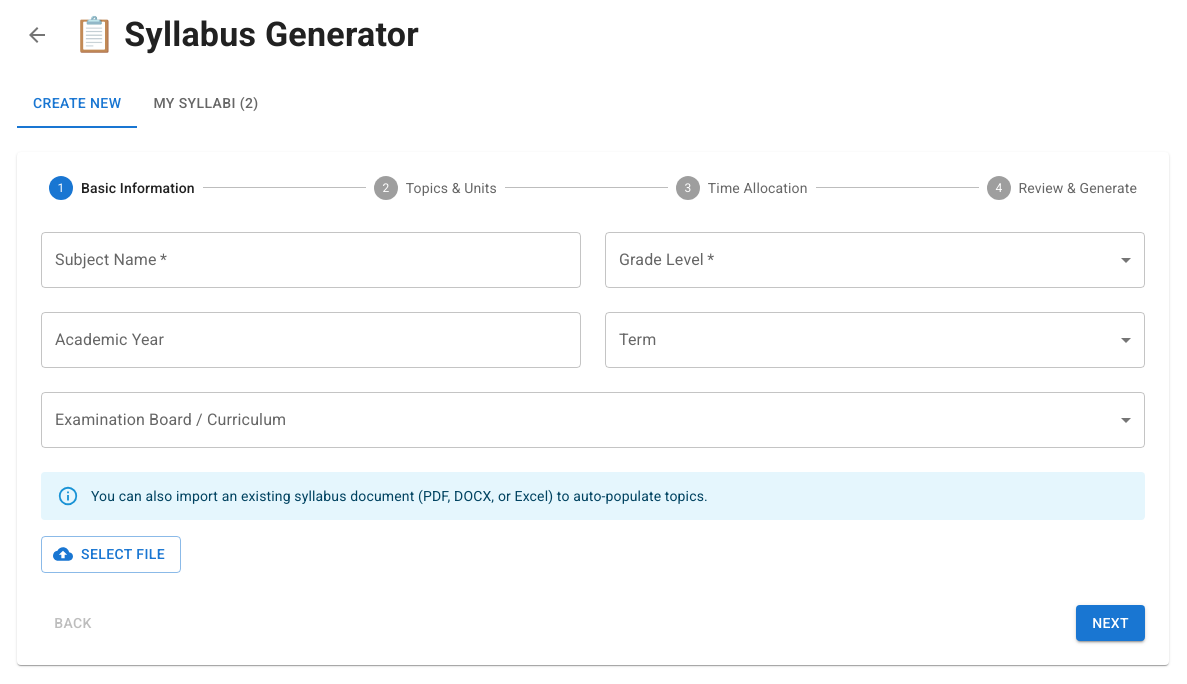
Test: SyllabusGenerator Component › shows Generate Syllabus button on final step
This screenshot has width=1187, height=684.
What coordinates should you click on to do the following:
click the button "Next"
I would click on:
 (1111, 623)
Its box is left=1076, top=604, right=1145, bottom=641.
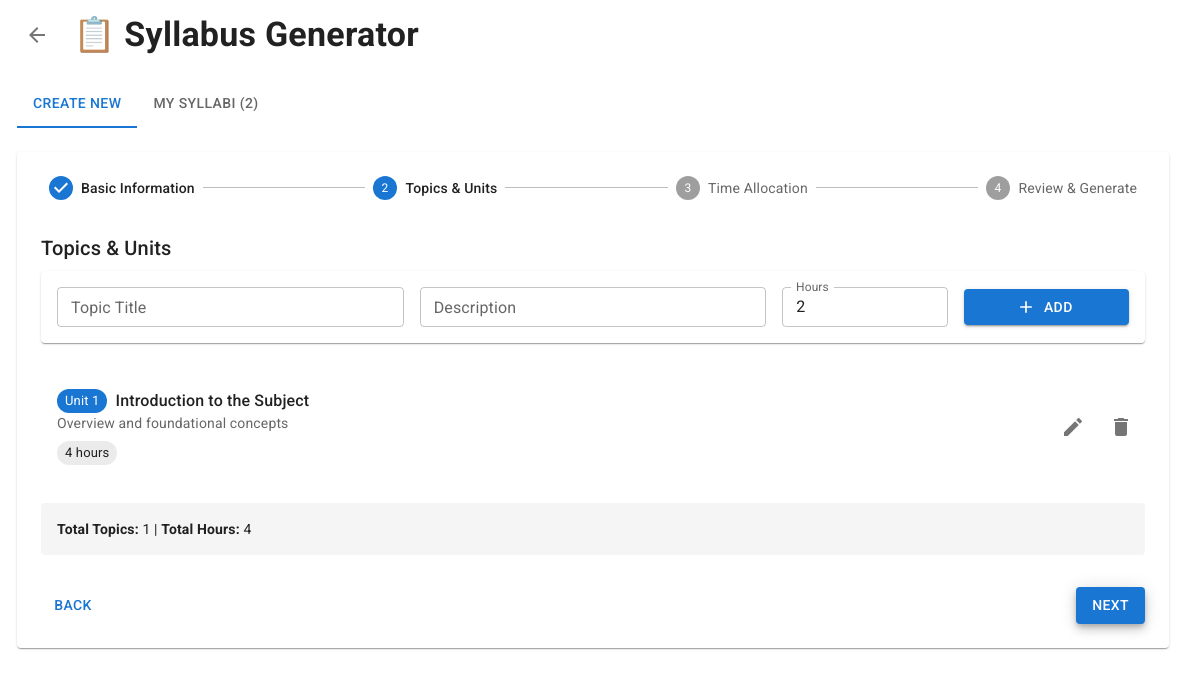
What coordinates should you click on to do the following:
click the button "Next"
I would click on:
 (1111, 605)
Its box is left=1076, top=587, right=1145, bottom=624.
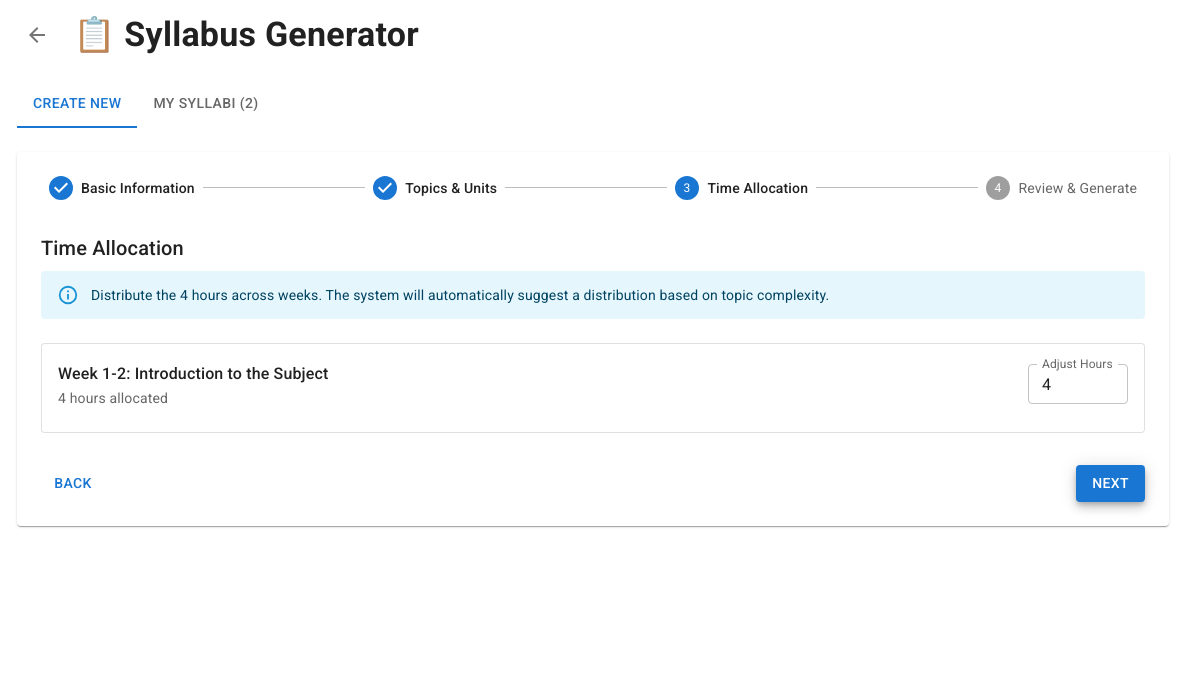
What coordinates should you click on to do the following:
click the button "Next"
I would click on:
 (1111, 483)
Its box is left=1076, top=465, right=1145, bottom=502.
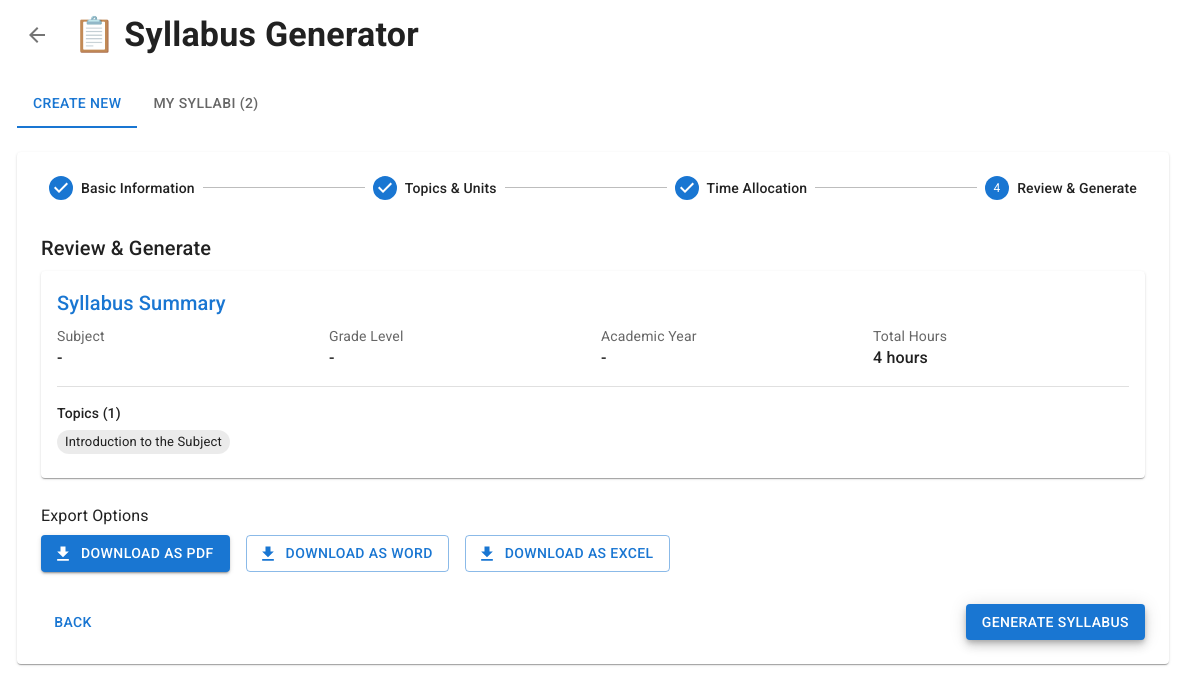
Result: the button "Generate Syllabus" is shown at left=966, top=604, right=1145, bottom=640
